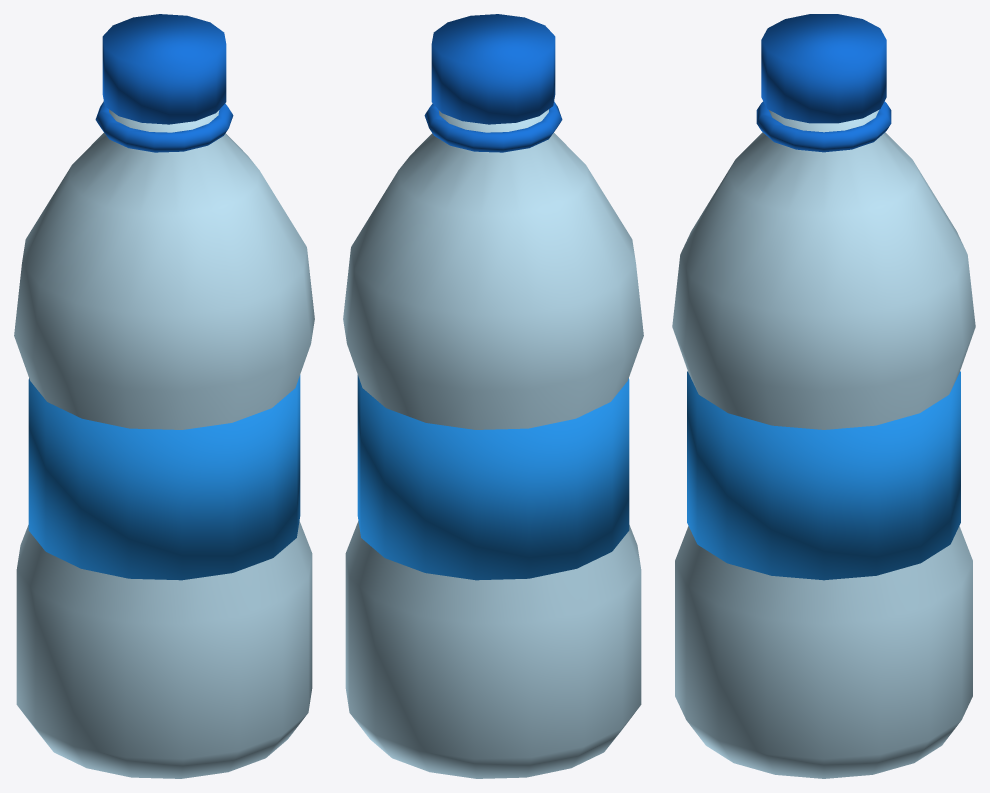
File: water-bottle.glb
The picture shows the model from 3 angles, left to right: view 1: azimuth 30°, elevation 25°; view 2: azimuth 150°, elevation 25°; view 3: azimuth 270°, elevation 25°; orthographic projection.
Parts seen in each view (by area): view 1: WaterBottleBody, WaterLabel, ScrewCap, NeckRing; view 2: WaterBottleBody, WaterLabel, ScrewCap, NeckRing; view 3: WaterBottleBody, WaterLabel, ScrewCap, NeckRing.
Boxes of the visible parts, x1,y1,x2,y2 form: WaterBottleBody: [14, 109, 314, 778]; WaterLabel: [28, 375, 300, 580]; ScrewCap: [102, 14, 226, 124]; NeckRing: [95, 101, 233, 152]; WaterBottleBody: [343, 109, 643, 778]; WaterLabel: [357, 375, 629, 580]; ScrewCap: [431, 14, 555, 124]; NeckRing: [424, 101, 562, 152]; WaterBottleBody: [672, 110, 975, 778]; WaterLabel: [687, 371, 960, 580]; ScrewCap: [761, 14, 886, 123]; NeckRing: [756, 101, 891, 152].
Size of the model in its own units: 0.114 by 0.284 by 0.114.
